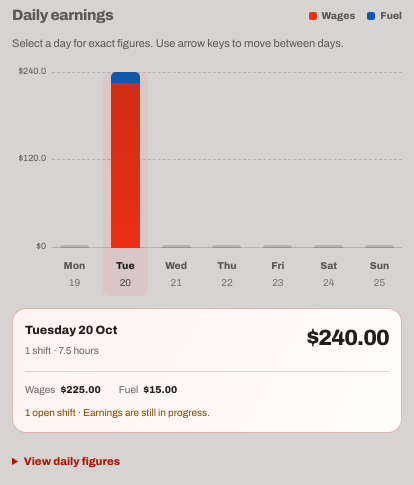
it: AdminEarningsChart › previews a hovered day and restores the persisted day when the pointer leaves the chart
Hover over the button with aria-label "Friday 23 Oct" at coordinates (278, 184), box [255,72,300,296]
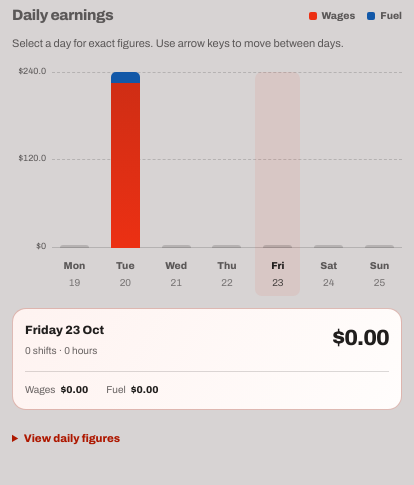
Now the text "Friday 23 Oct" is shown, box [25,321,104,339]
Move the pointer off the button with aria-label "Friday 23 Oct", box [255,72,300,296]
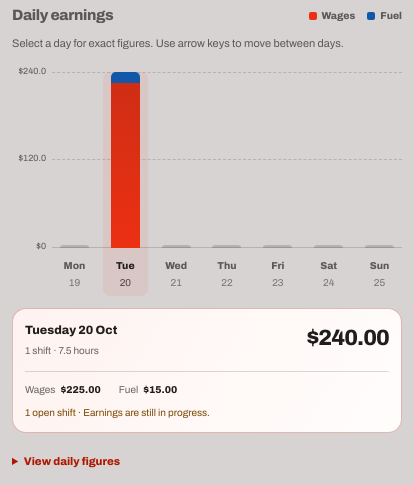
Now the text "Tuesday 20 Oct" is shown, box [25,321,117,339]
